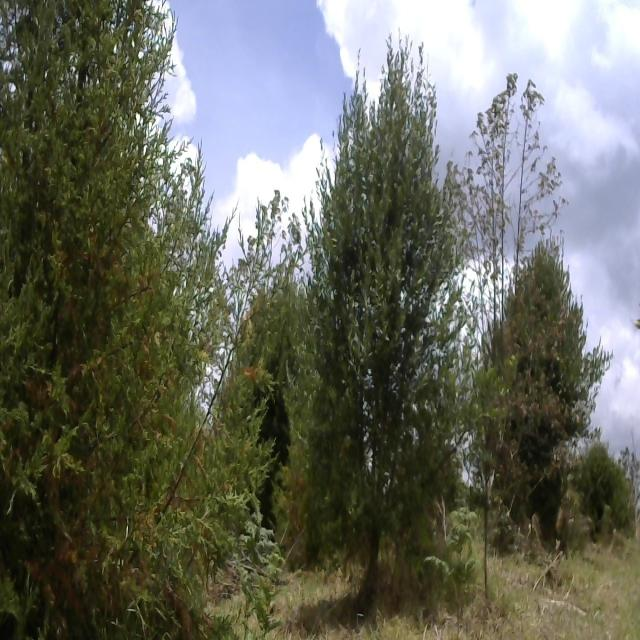Salix alba: (288, 45, 480, 571)
cedrus: (0, 0, 266, 640)
other: (452, 82, 560, 486)
